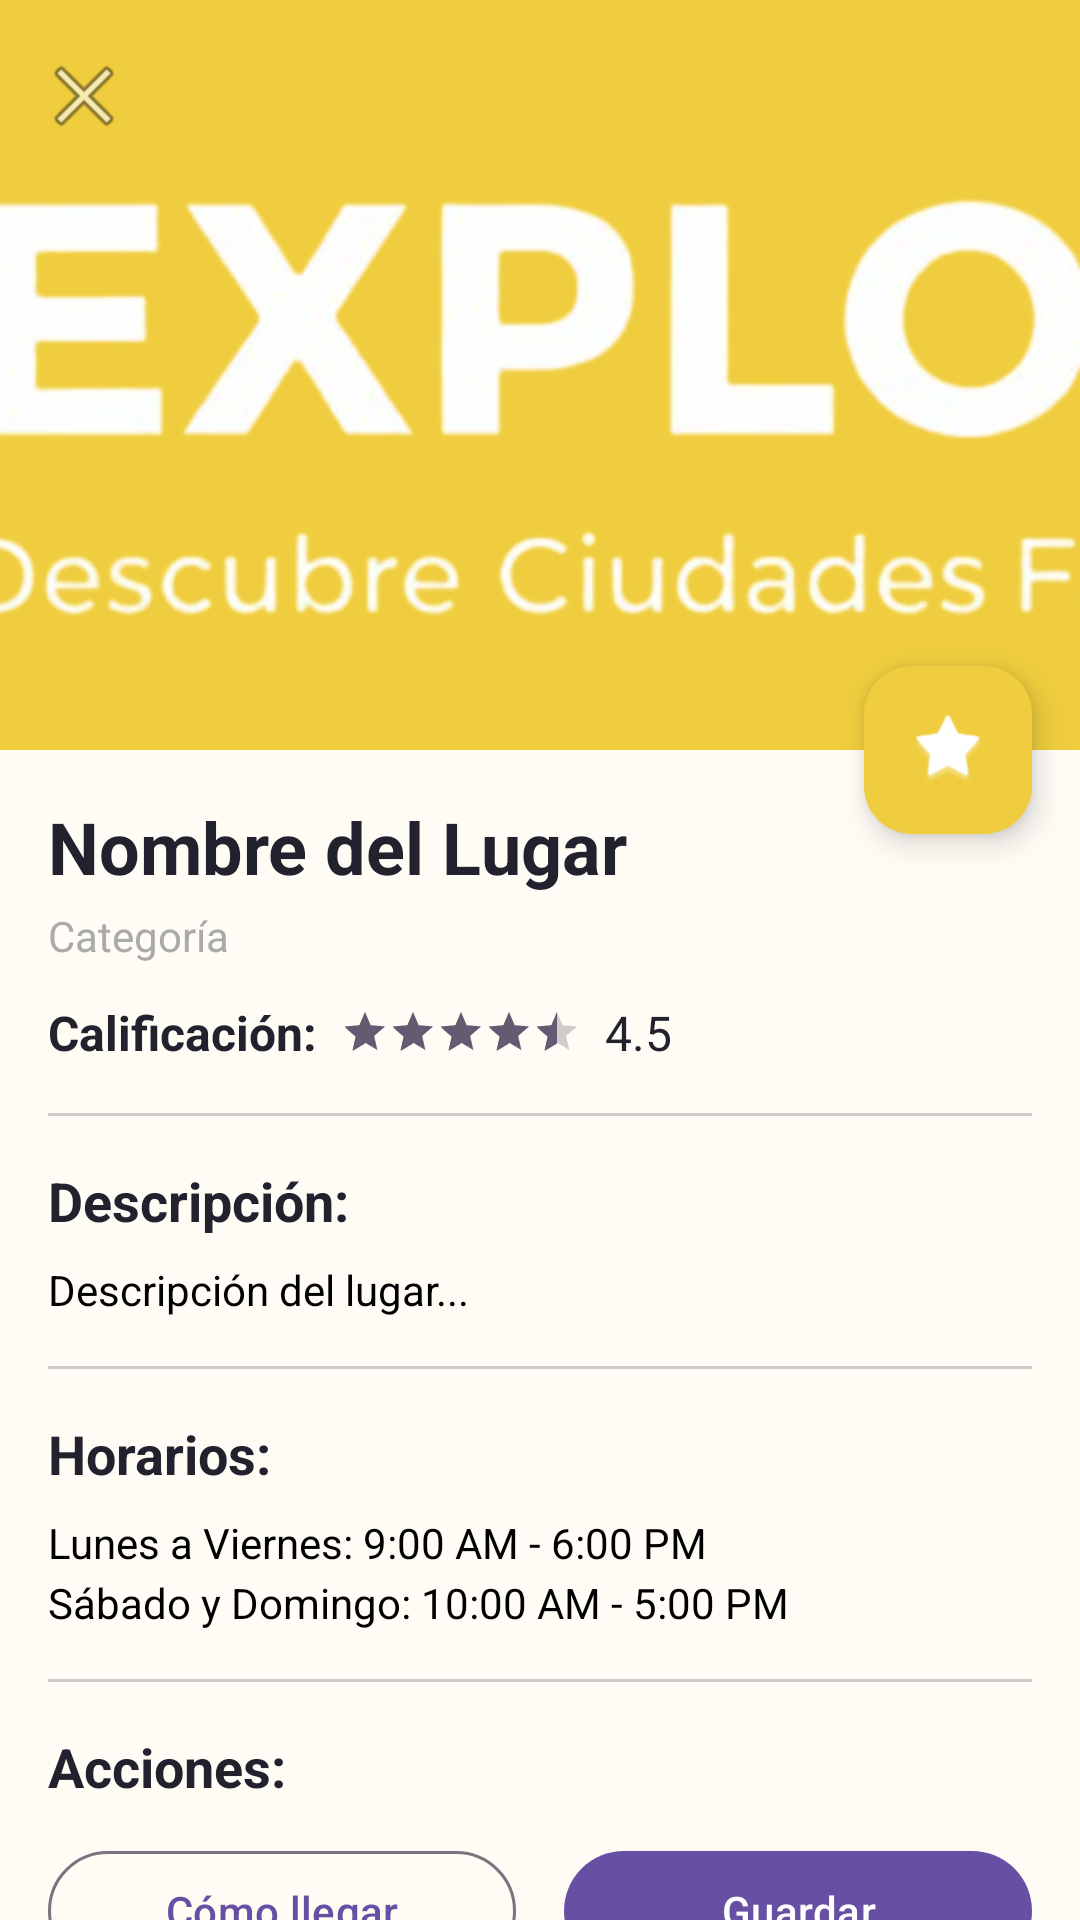

Icon click points for this 1080x1920 phone screenshot, format (x,y):
Agregar a favoritos: (948,750)
